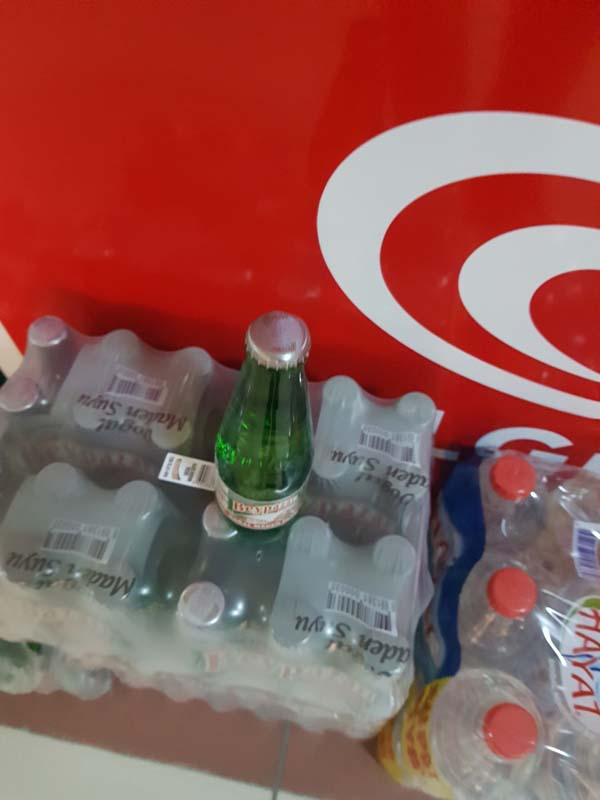beypazarimadensuyu: (212, 308, 313, 528)
